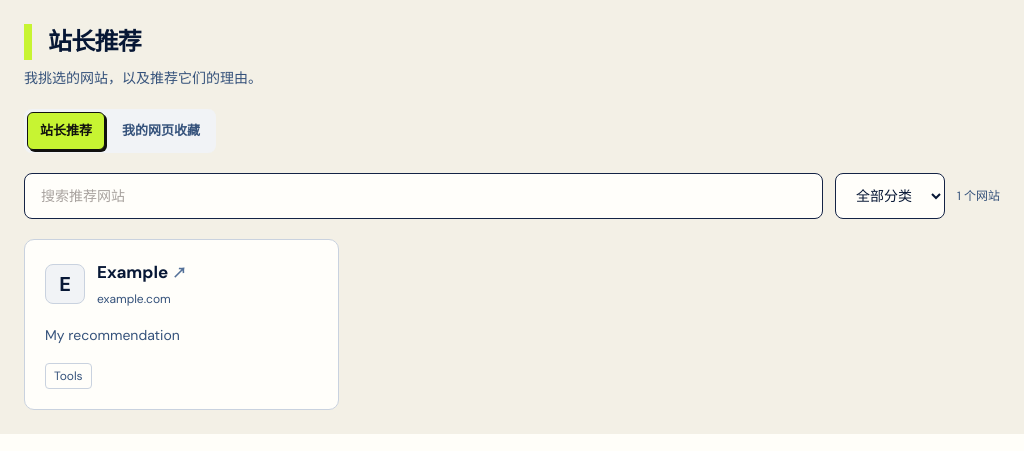
Test case: standalone website recommendations › renders direct external links and filters by the recommendation text
Type "does not exist" into the search field with placeholder "搜索推荐网站".
click(424, 196); type("does not exist")  # box [24, 173, 823, 219]
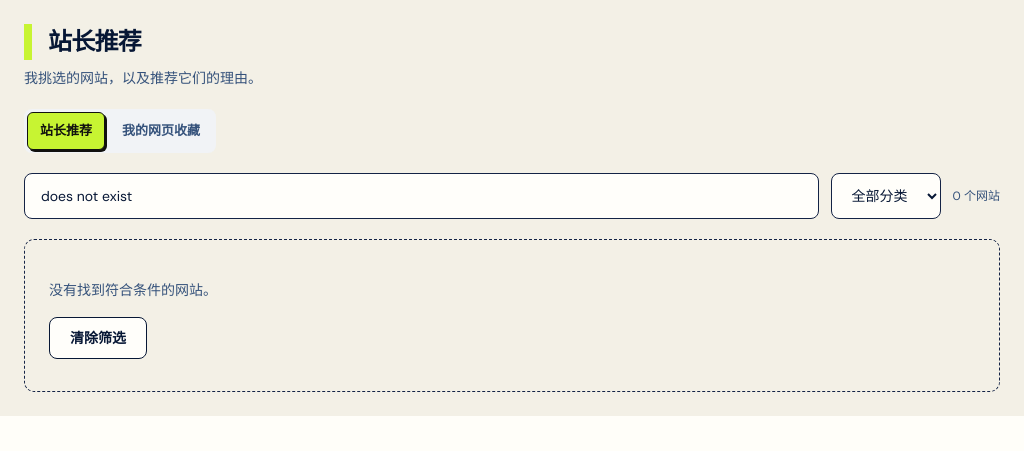
Now no list items with class "website-card" are shown
Now the text "没有找到符合条件的网站" is shown, box [49, 281, 217, 299]
